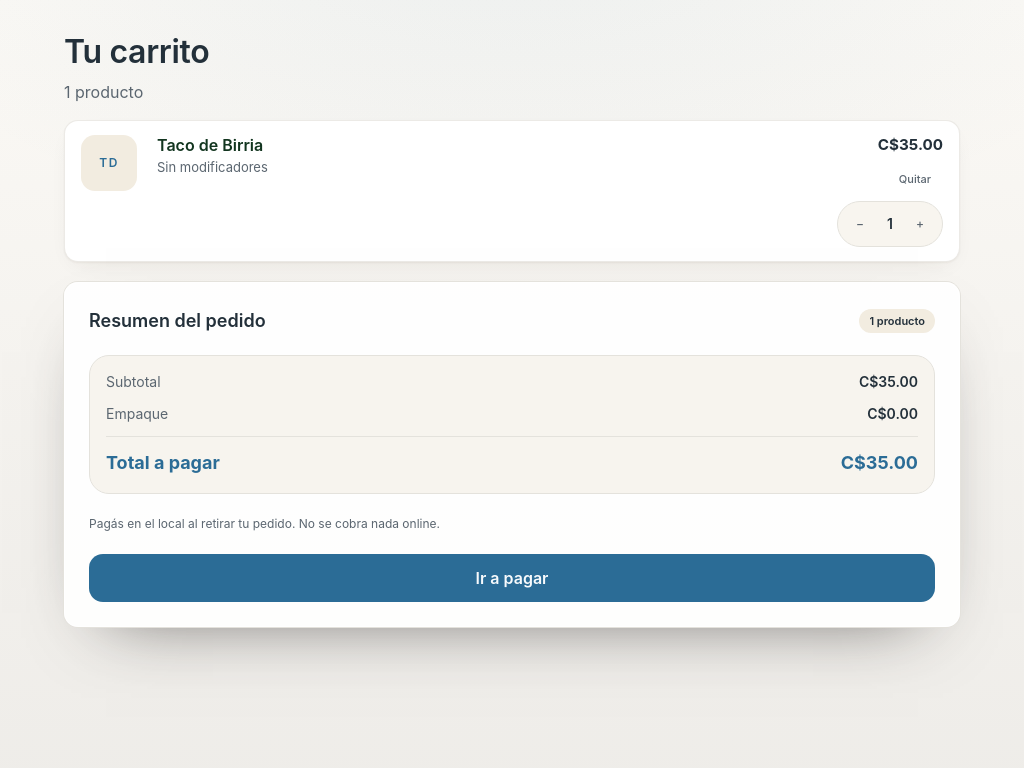
Test: carrito: edición por ítem (fase 7) › sumar unidades cambia la cantidad y el total
Expected: the text "Taco de Birria" is shown, x1=157 y1=135 x2=263 y2=155
Click the button named "Sumar una unidad de Taco de Birria" at (920, 224), box x1=898 y1=202 x2=942 y2=246
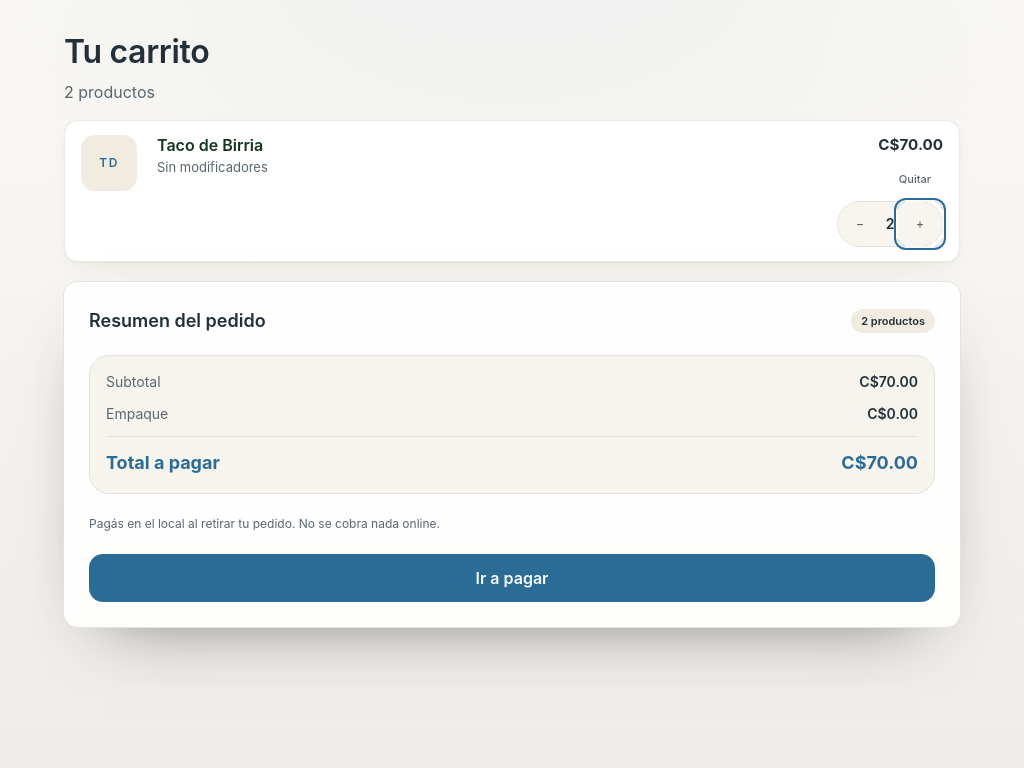
Expected: the text "2" is shown, x1=886 y1=215 x2=894 y2=232
